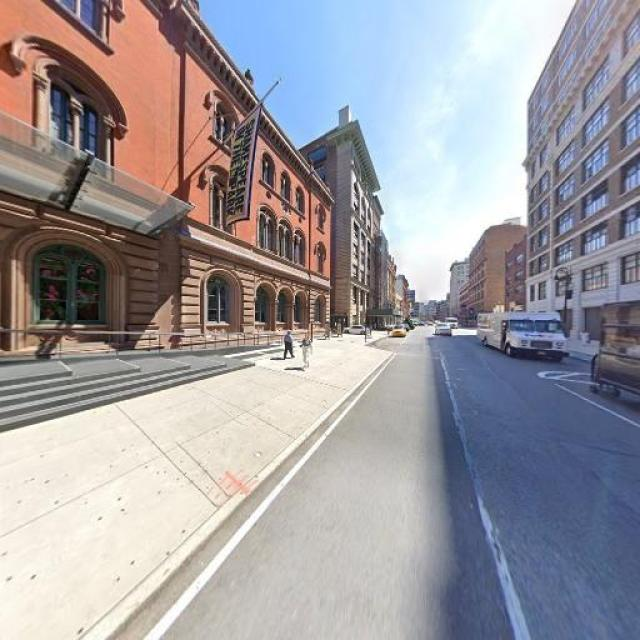Building: (1, 1, 335, 377), (534, 1, 640, 347), (352, 132, 378, 329)
